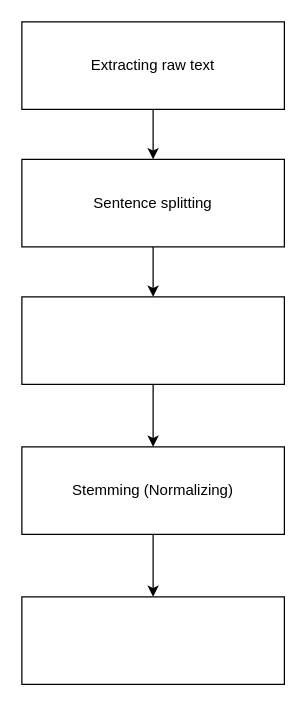
The diagram is 306 pixels wide and 706 high, and some of its shapes have lost their labels. Each missing label, with the box of its shape:
Stopword removal: (21, 596, 284, 684)
Tokenization: (21, 296, 284, 384)
